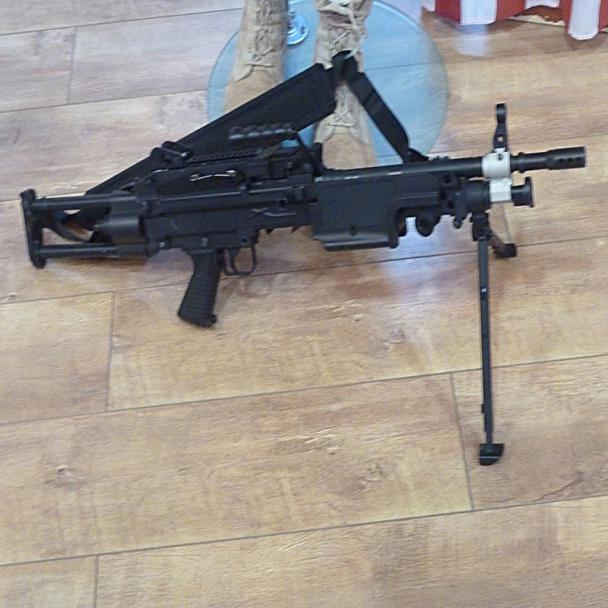Gun: (13, 70, 607, 310)
